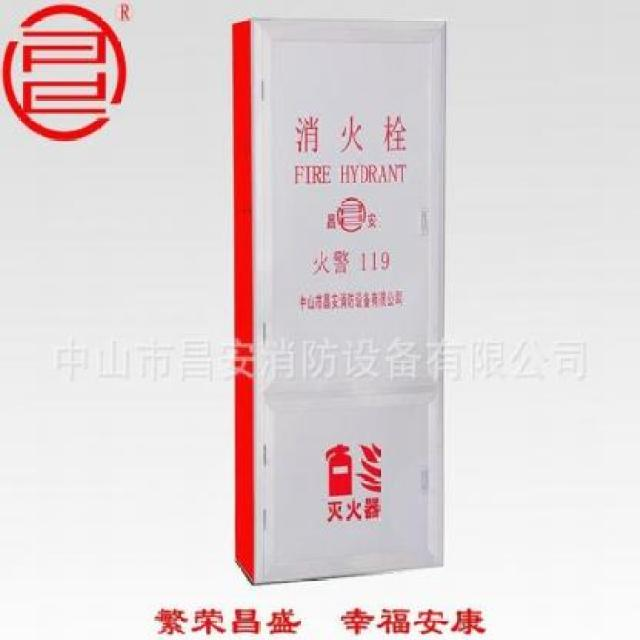firehydrant: (228, 14, 452, 592)
